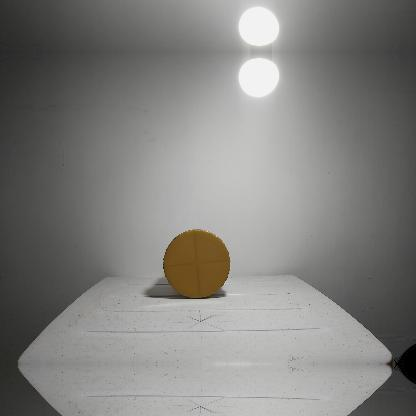Lady-s-Choice: (161, 227, 231, 299)
